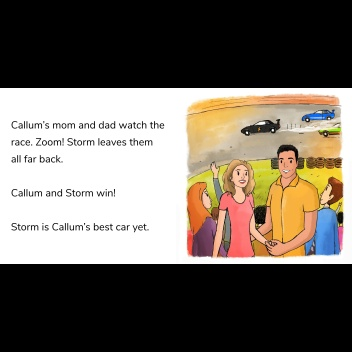latin: (9, 116, 165, 131), (9, 218, 150, 234), (8, 134, 154, 149), (8, 184, 117, 199), (8, 153, 64, 164)
